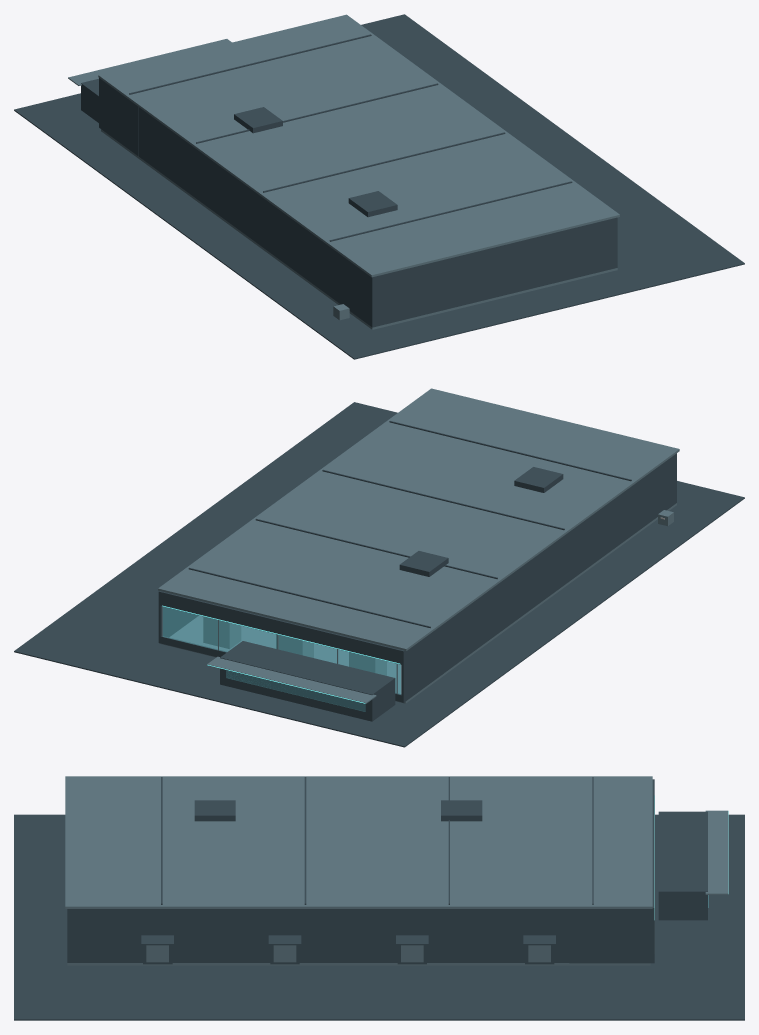
The model's file is warehouse_logistics_center.lod1.glb.
3 views of the same model, one above another, from view 1: azimuth 30°, elevation 25°; view 2: azimuth 150°, elevation 25°; view 3: azimuth 270°, elevation 25° (orthographic). The views are drawn at different scales.
Parts seen in each view (by area): view 1: warehouse_logistics_center_graphite.001, warehouse_logistics_center_graphite_light.001; view 2: warehouse_logistics_center_graphite_light.001, warehouse_logistics_center_graphite.001, warehouse_logistics_center_glass.001; view 3: warehouse_logistics_center_graphite.001, warehouse_logistics_center_graphite_light.001.
Boxes of the visible parts, <box> form: warehouse_logistics_center_graphite.001: <box>14,14,744,359</box>; warehouse_logistics_center_graphite_light.001: <box>68,14,619,329</box>; warehouse_logistics_center_graphite_light.001: <box>158,388,679,703</box>; warehouse_logistics_center_graphite.001: <box>14,402,744,747</box>; warehouse_logistics_center_glass.001: <box>163,606,400,711</box>; warehouse_logistics_center_graphite.001: <box>14,777,744,1020</box>; warehouse_logistics_center_graphite_light.001: <box>65,776,728,965</box>.
Bounding box in the file's own units: 118 × 17.95 × 178.
